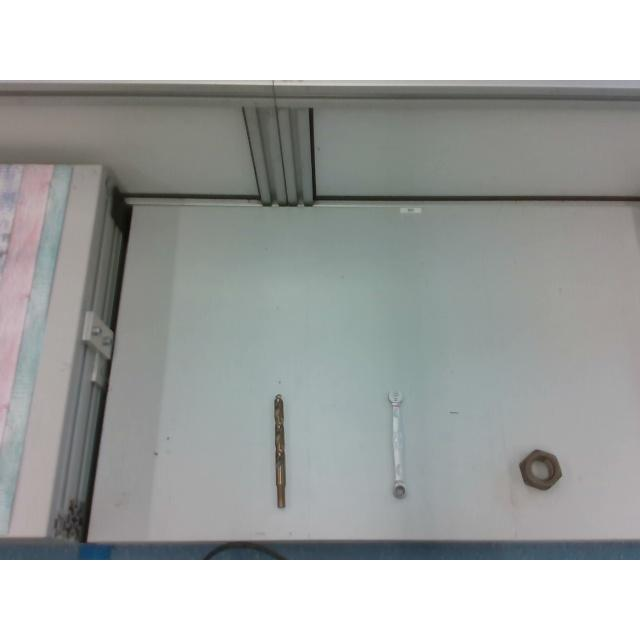Drill: (272, 392, 286, 508)
M30: (519, 450, 563, 490)
Wrench: (387, 394, 407, 498)
